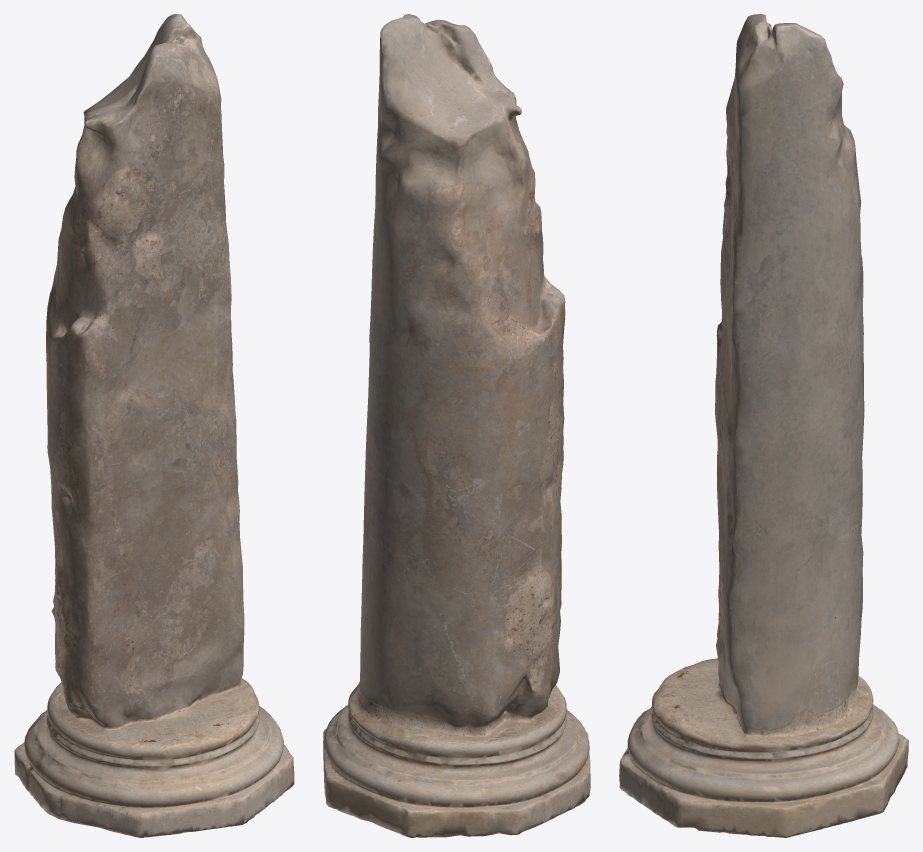
The model's file is PillarCracked.dae.
3 views of the same model, side by side, from view 1: azimuth 30°, elevation 25°; view 2: azimuth 150°, elevation 25°; view 3: azimuth 270°, elevation 25° (orthographic). The views are drawn at different scales.
Visible parts, largest first — view 1: Aset_stone_carved_L_tk4tfgzfa_LOD0; view 2: Aset_stone_carved_L_tk4tfgzfa_LOD0; view 3: Aset_stone_carved_L_tk4tfgzfa_LOD0.
Part boxes in pixels (x1,y1,x2,y2): Aset_stone_carved_L_tk4tfgzfa_LOD0: [14, 14, 294, 837]; Aset_stone_carved_L_tk4tfgzfa_LOD0: [323, 14, 590, 837]; Aset_stone_carved_L_tk4tfgzfa_LOD0: [619, 14, 908, 837].
Size of the model in its own units: 0.7846 by 0.8048 by 2.37.
Materials: 1 (1 with a texture image).
